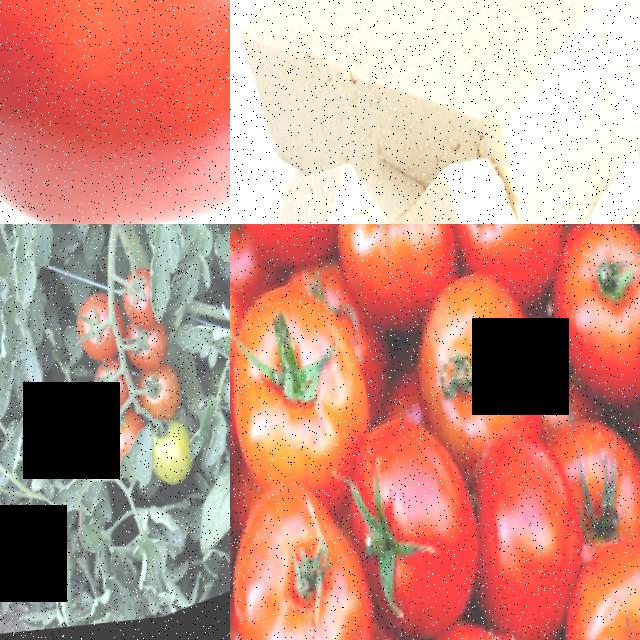tofu: (230, 0, 640, 187), (248, 147, 409, 224), (384, 150, 542, 224)
tomato: (0, 0, 230, 224), (230, 265, 400, 527), (325, 403, 512, 640), (311, 224, 481, 357), (69, 287, 137, 375), (146, 420, 208, 500), (137, 364, 194, 435)
